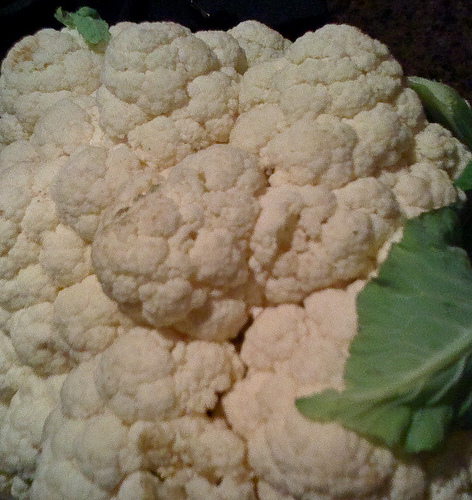cauliflower: (1, 7, 470, 498)
